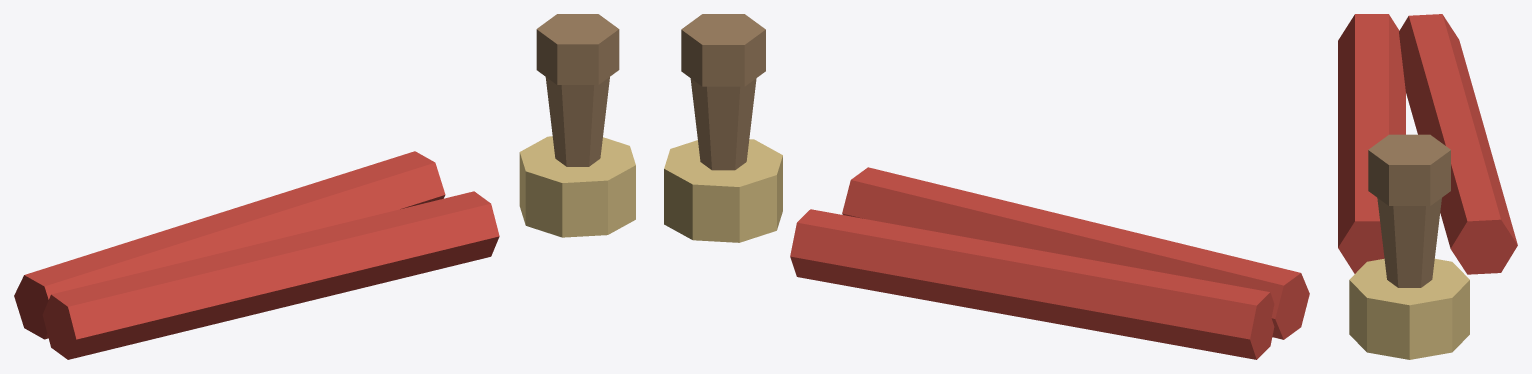
The model's file is prop-sealing-wax-stick.fbx.
3 renders of one model, left to right at view 1: azimuth 30°, elevation 25°; view 2: azimuth 150°, elevation 25°; view 3: azimuth 270°, elevation 25°, orthographic. The views are drawn at different scales.
Parts seen in each view (by area): view 1: prop-sealing-wax-stick; view 2: prop-sealing-wax-stick; view 3: prop-sealing-wax-stick.
Boxes of the visible parts, x1,y1,x2,y2 form: prop-sealing-wax-stick: [14, 14, 635, 359]; prop-sealing-wax-stick: [664, 14, 1309, 359]; prop-sealing-wax-stick: [1338, 14, 1517, 359].
Bounding box in the file's own units: 18.16 × 5.4 × 4.77.
